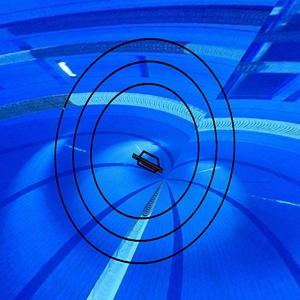circle: (53, 36, 238, 265)
submarine: (130, 147, 168, 180)
